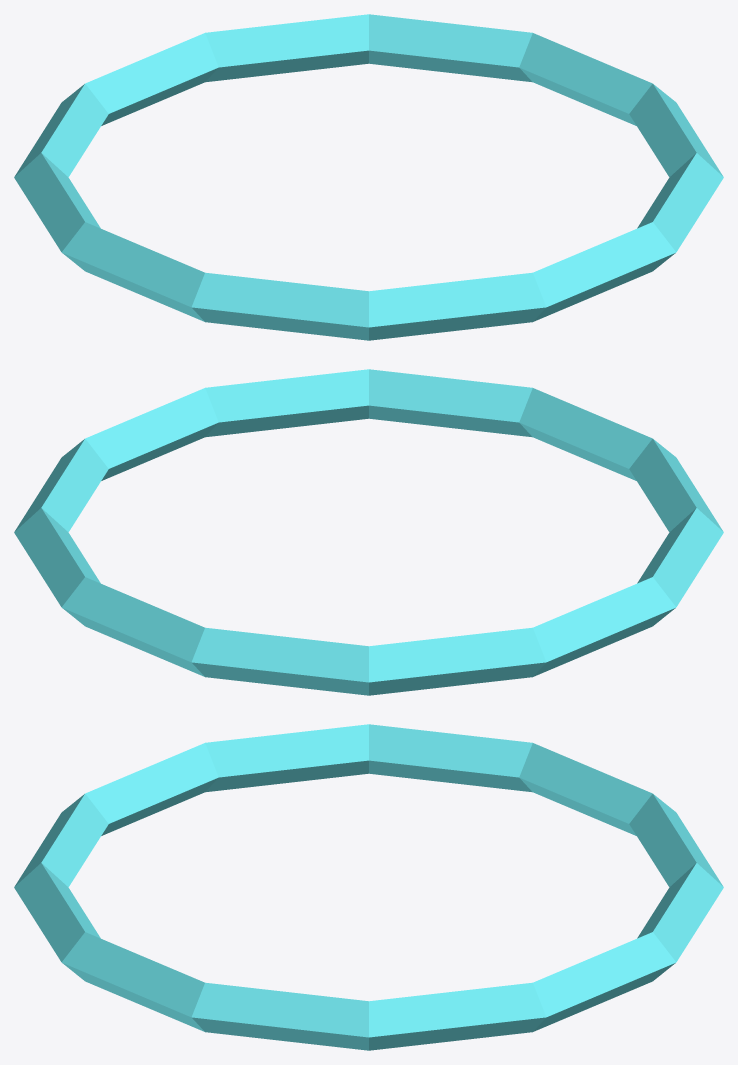
File: ripple.glb
3 views of the same model, one above another, from view 1: azimuth 30°, elevation 25°; view 2: azimuth 150°, elevation 25°; view 3: azimuth 270°, elevation 25° (orthographic).
Parts seen in each view (by area): view 1: Ring; view 2: Ring; view 3: Ring.
Part boxes in pixels (<box>): Ring: <box>14,14,723,340</box>; Ring: <box>14,369,723,695</box>; Ring: <box>14,724,723,1050</box>.
Size of the model in its own units: 1.3 by 0.1 by 1.3.
